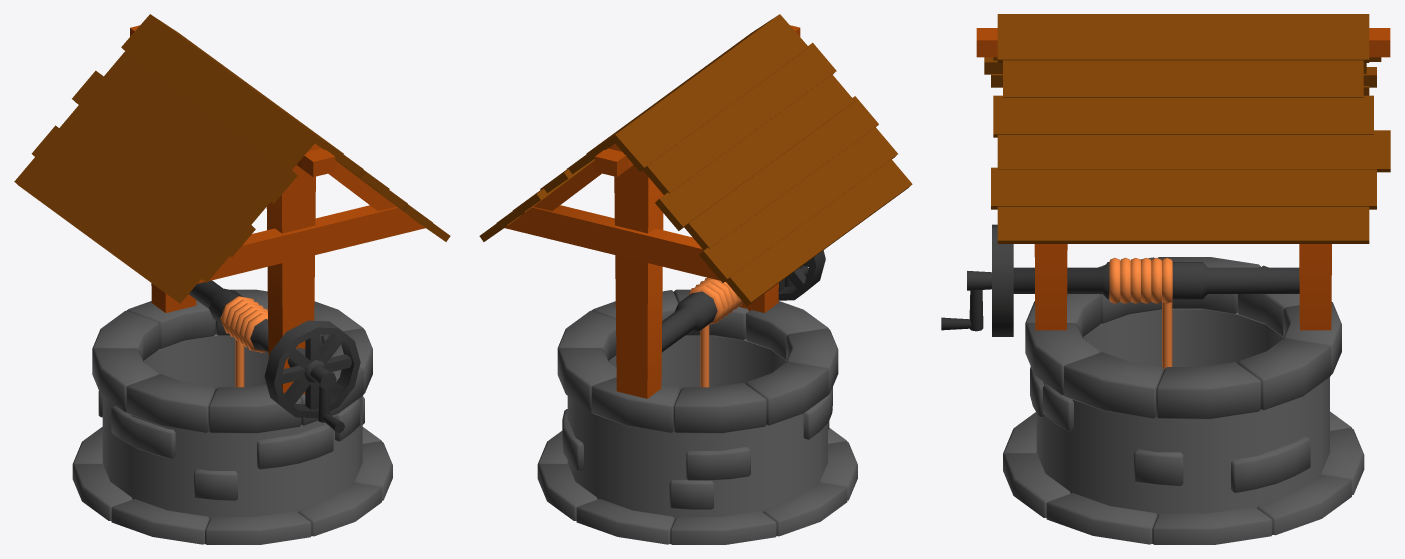
File: Props_Well_01.fbx
3 views of the same model, side by side, from view 1: azimuth 30°, elevation 25°; view 2: azimuth 150°, elevation 25°; view 3: azimuth 270°, elevation 25° (orthographic). The views are drawn at different scales.
Visible parts, largest first — view 1: Props_Well_01; view 2: Props_Well_01; view 3: Props_Well_01.
Part boxes in pixels (<box>): Props_Well_01: <box>14,14,450,544</box>; Props_Well_01: <box>479,14,912,544</box>; Props_Well_01: <box>941,14,1390,544</box>.
Bounding box in the file's own units: 267 × 377 × 337.
